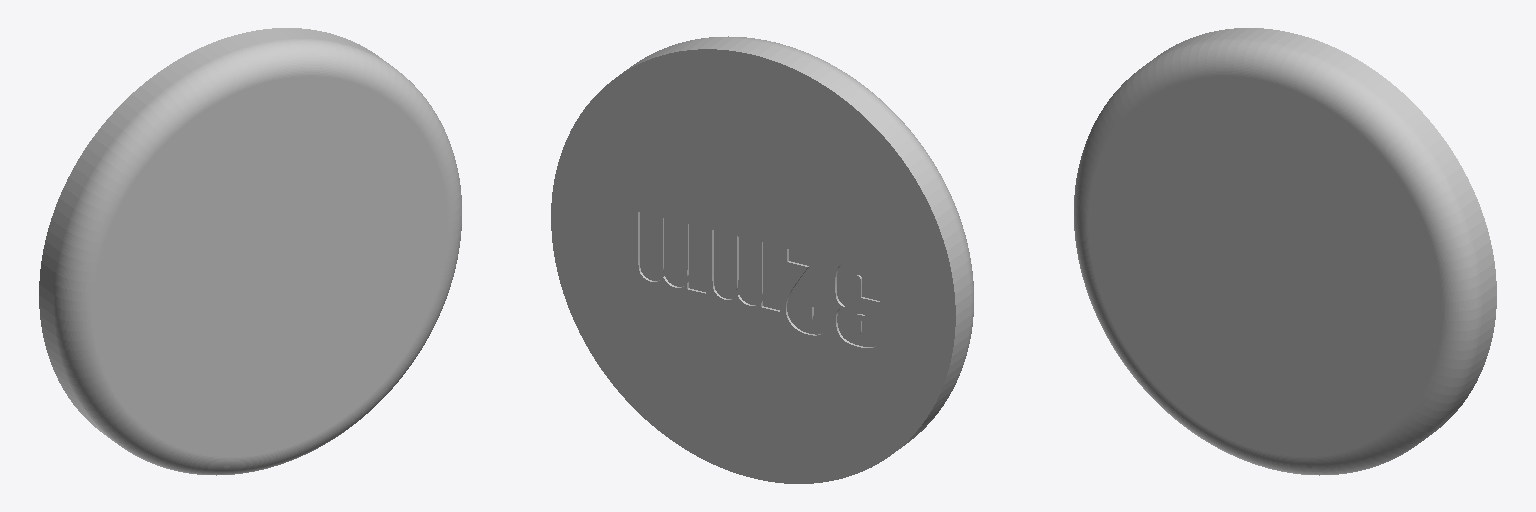
3 views of the same model, side by side, from view 1: azimuth 30°, elevation 25°; view 2: azimuth 150°, elevation 25°; view 3: azimuth 330°, elevation 25° (orthographic).
Parts seen in each view (by area): view 1: base_32; view 2: base_32; view 3: base_32.
Part boxes in pixels (x1,y1,x2,y2): base_32: (39,28,461,475); base_32: (551,36,973,483); base_32: (1074,28,1496,475).
Bounding box in the file's own units: 32 × 31.99 × 4.